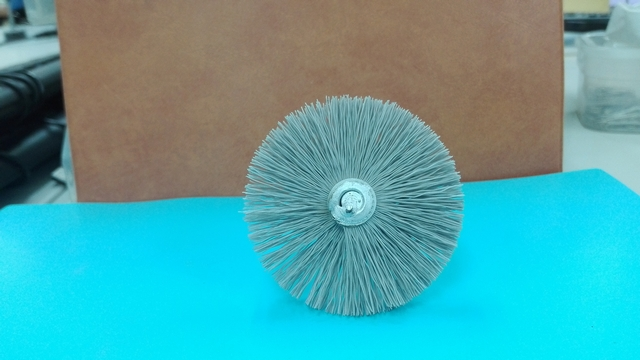TOOL: (191, 77, 495, 352), (268, 67, 495, 338), (238, 96, 423, 333)
